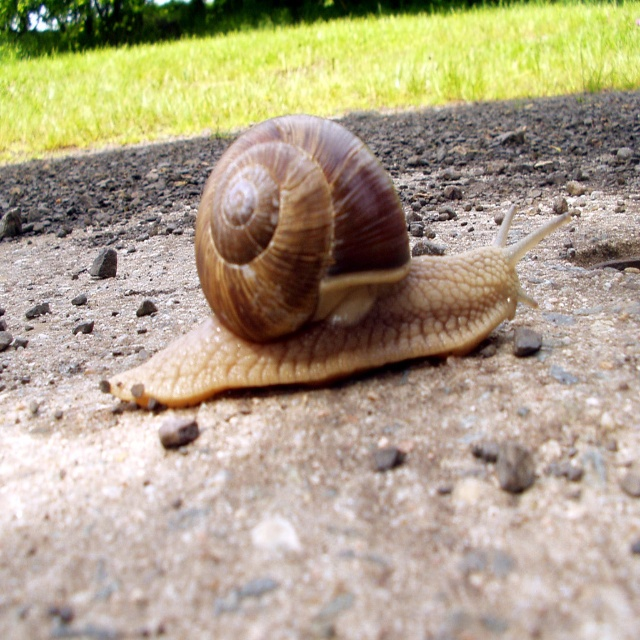Snail: (100, 113, 571, 408)
